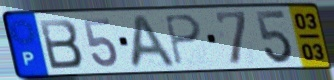5: (253, 9, 295, 66), (80, 16, 120, 68)
7: (214, 9, 251, 67)
A: (128, 13, 179, 71)
B: (36, 17, 85, 71)
P: (162, 13, 204, 68)
